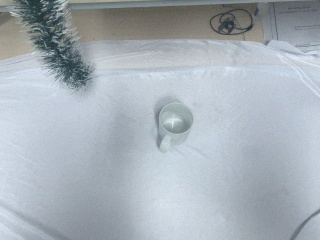cup: (156, 102, 194, 152)
